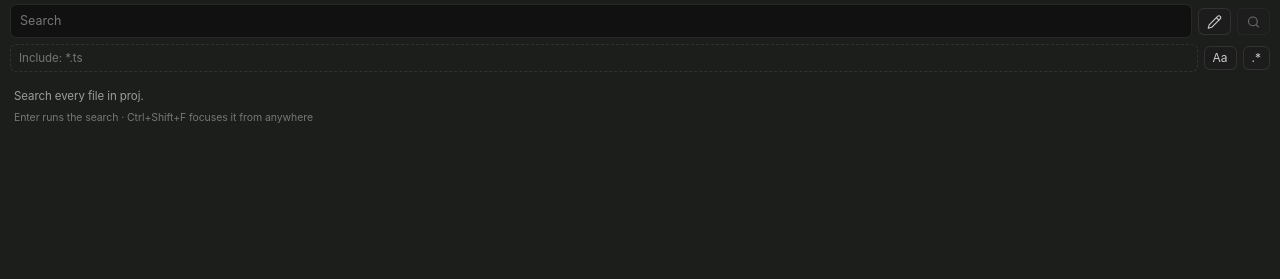
SearchPanel search › groups matches by file and reports the count
This screenshot has width=1280, height=279.
Step 1. Type "hello" into the field with test id "ws-search-query" → (601, 21), box 10,4 -> 1192,38
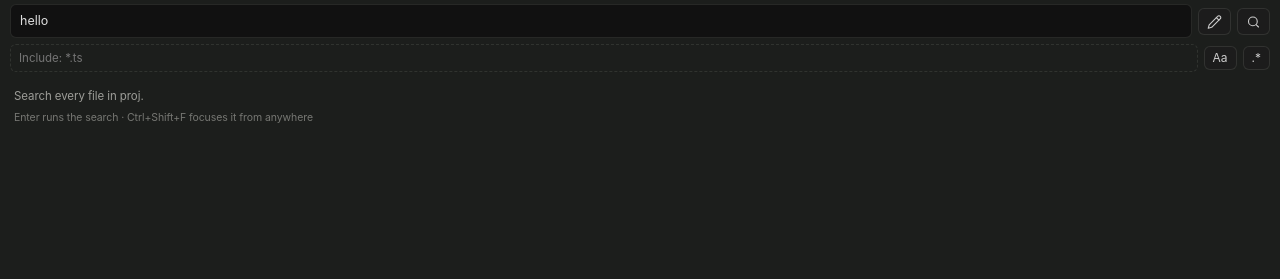
Step 2. Click the button with test id "ws-search-run" → (1254, 21), box 1237,8 -> 1270,34
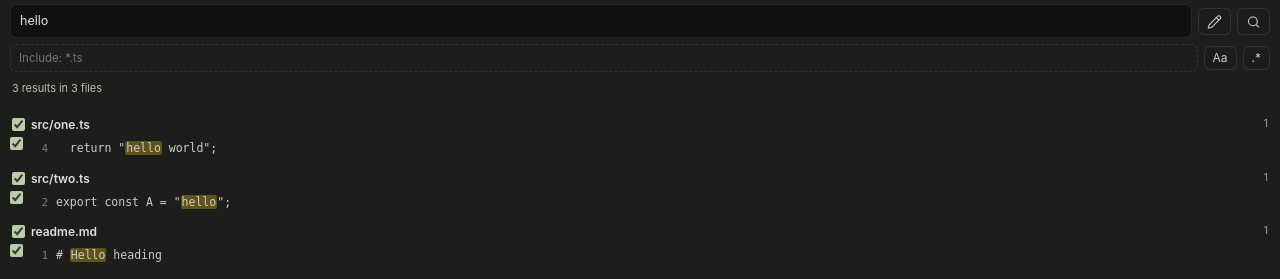
Check: the element with test id "ws-search-results" shows "src/one.ts", box 31,115 -> 1258,134
Check: the element with test id "ws-search-results" shows "readme.md", box 31,222 -> 1258,241
Check: the text "3 results in 3 files" is shown, box 12,81 -> 102,95
